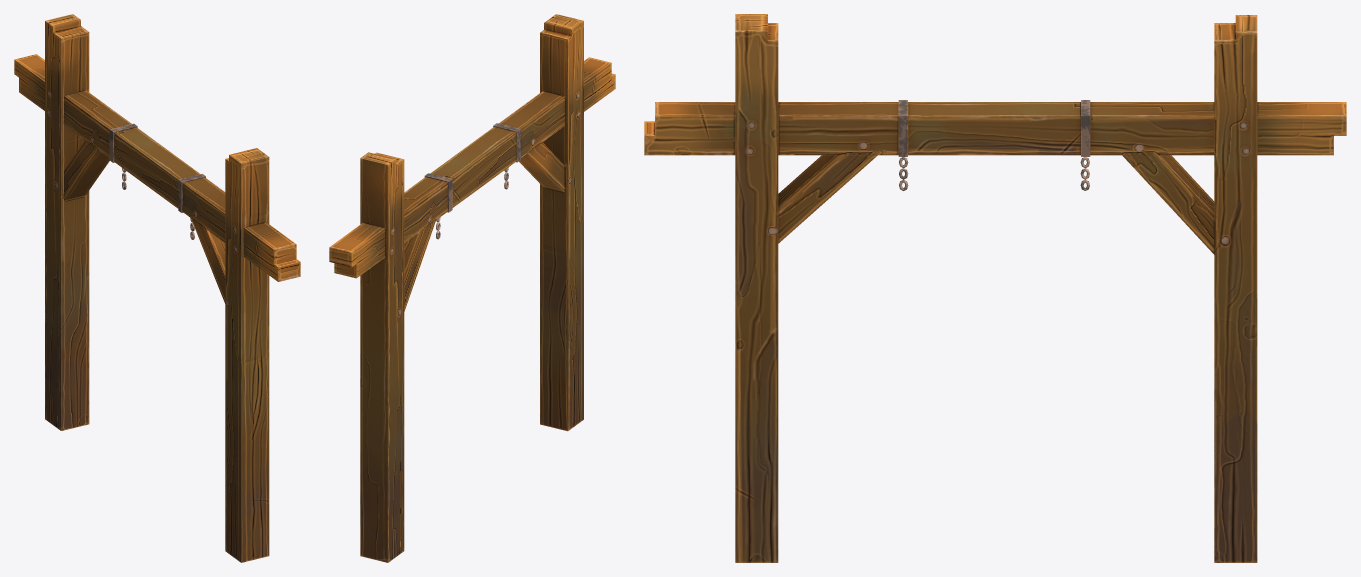
The picture shows the model from 3 angles, left to right: view 1: azimuth 30°, elevation 25°; view 2: azimuth 150°, elevation 25°; view 3: azimuth 270°, elevation 25°; orthographic projection. The views are drawn at different scales.
Parts seen in each view (by area): view 1: Cube.324; view 2: Cube.324; view 3: Cube.324.
Boxes of the visible parts, x1,y1,x2,y2 form: Cube.324: (14,14,300,562); Cube.324: (329,14,615,562); Cube.324: (644,14,1346,562).
Size of the model in its own units: 34.7 by 473 by 568.
